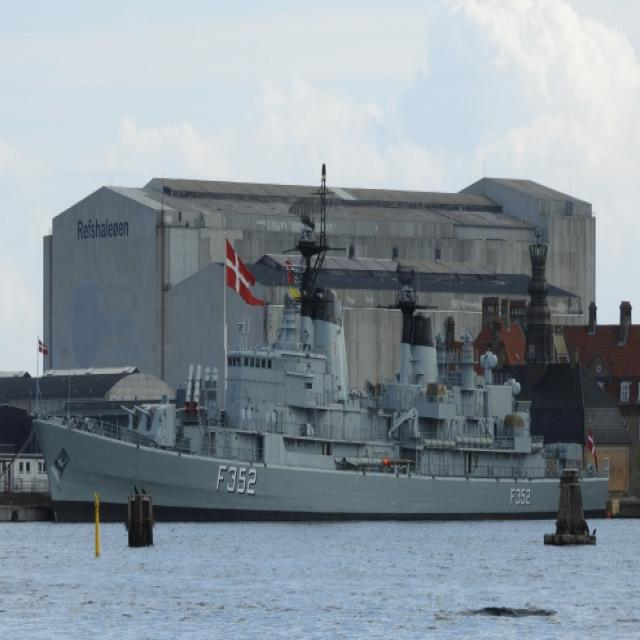Fragata: (35, 286, 621, 532)
